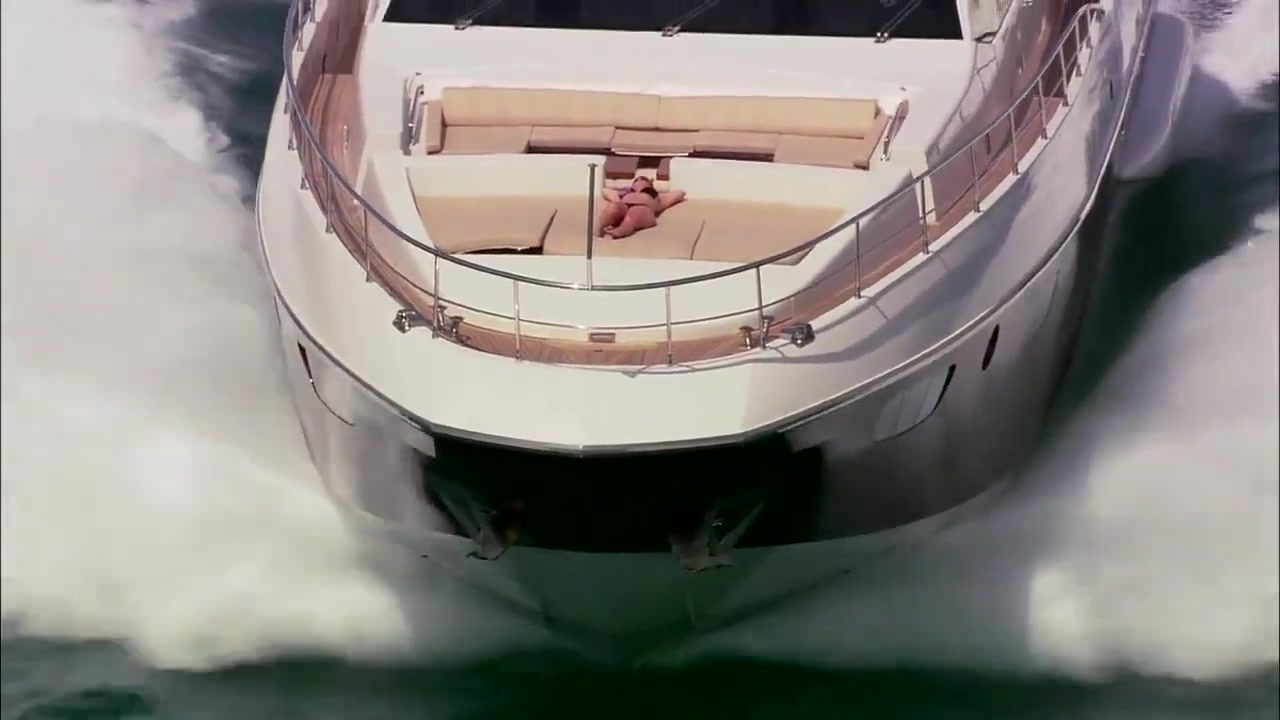boat: (253, 1, 1200, 666)
